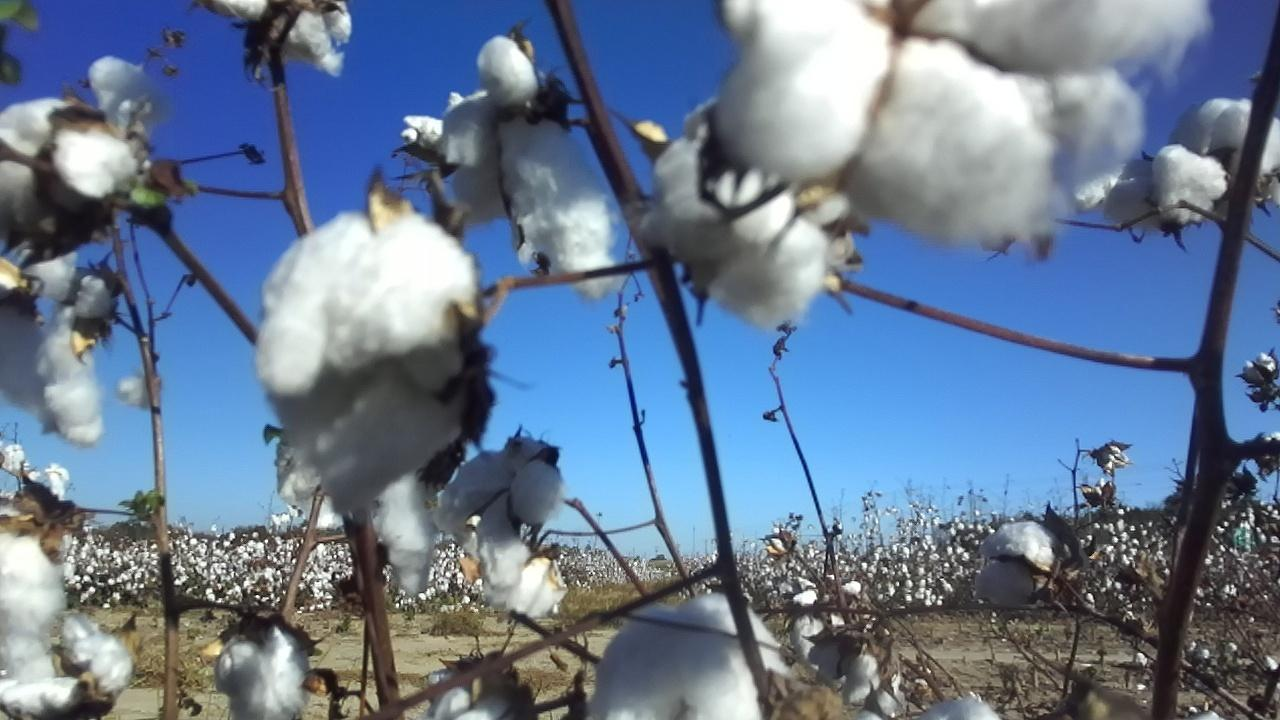cotton_ready: (712, 0, 1209, 252), (255, 212, 479, 509), (440, 34, 627, 300), (652, 105, 822, 329), (583, 590, 795, 720), (1105, 97, 1280, 235), (280, 445, 436, 598), (0, 99, 135, 239), (432, 452, 565, 589), (0, 298, 105, 445), (0, 610, 134, 720), (0, 502, 67, 684), (212, 0, 352, 77), (23, 237, 122, 337), (215, 619, 312, 720), (808, 625, 902, 709), (976, 520, 1059, 607), (87, 54, 167, 139), (425, 662, 532, 720), (483, 557, 569, 619), (399, 92, 467, 155), (279, 433, 323, 504), (913, 695, 1002, 720), (513, 437, 560, 465)
